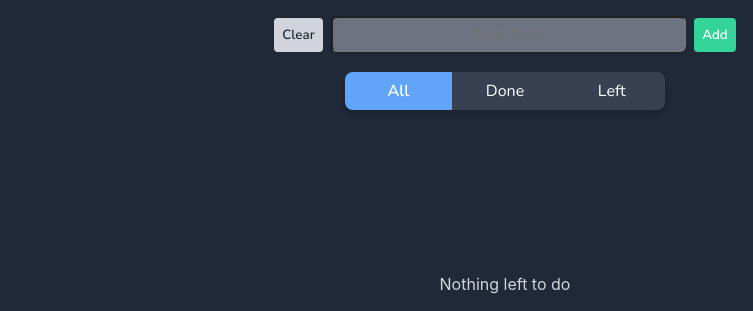
Test: the testing the behaviour of todosContainer › should render todos with the given value from input
The width and height of the screenshot is (753, 311).
In the field with placeholder "Add Todo": (508, 34) [331,16,686,52], type "Do the dishes"
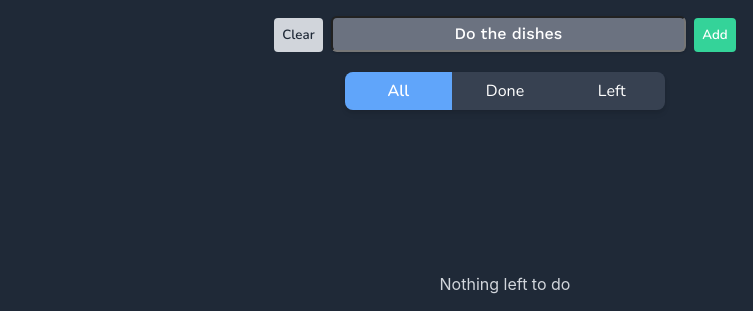
Click the button "Add": (715, 35) [694,18,736,52]
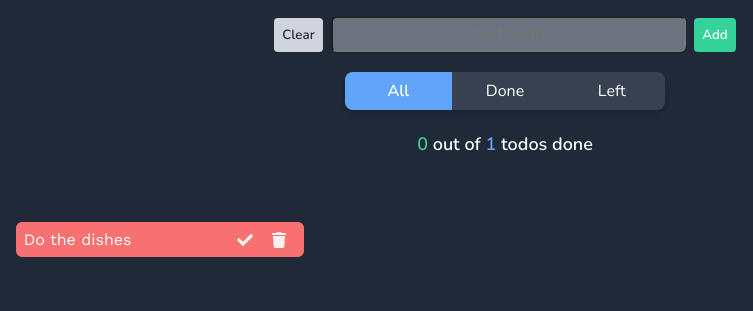
Expected: the text "Do the dishes" is shown, [24,230,132,249]
